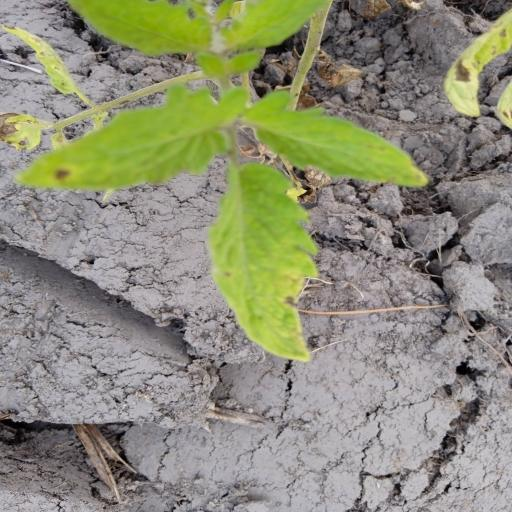Tomato_Brown_Spots: (6, 78, 249, 197), (202, 156, 324, 370), (240, 87, 434, 191)
